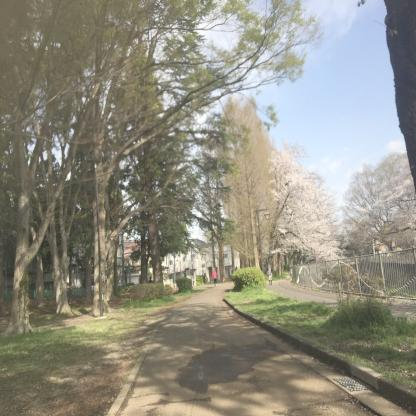Someiyoshino: (265, 137, 348, 274), (358, 160, 416, 254)
